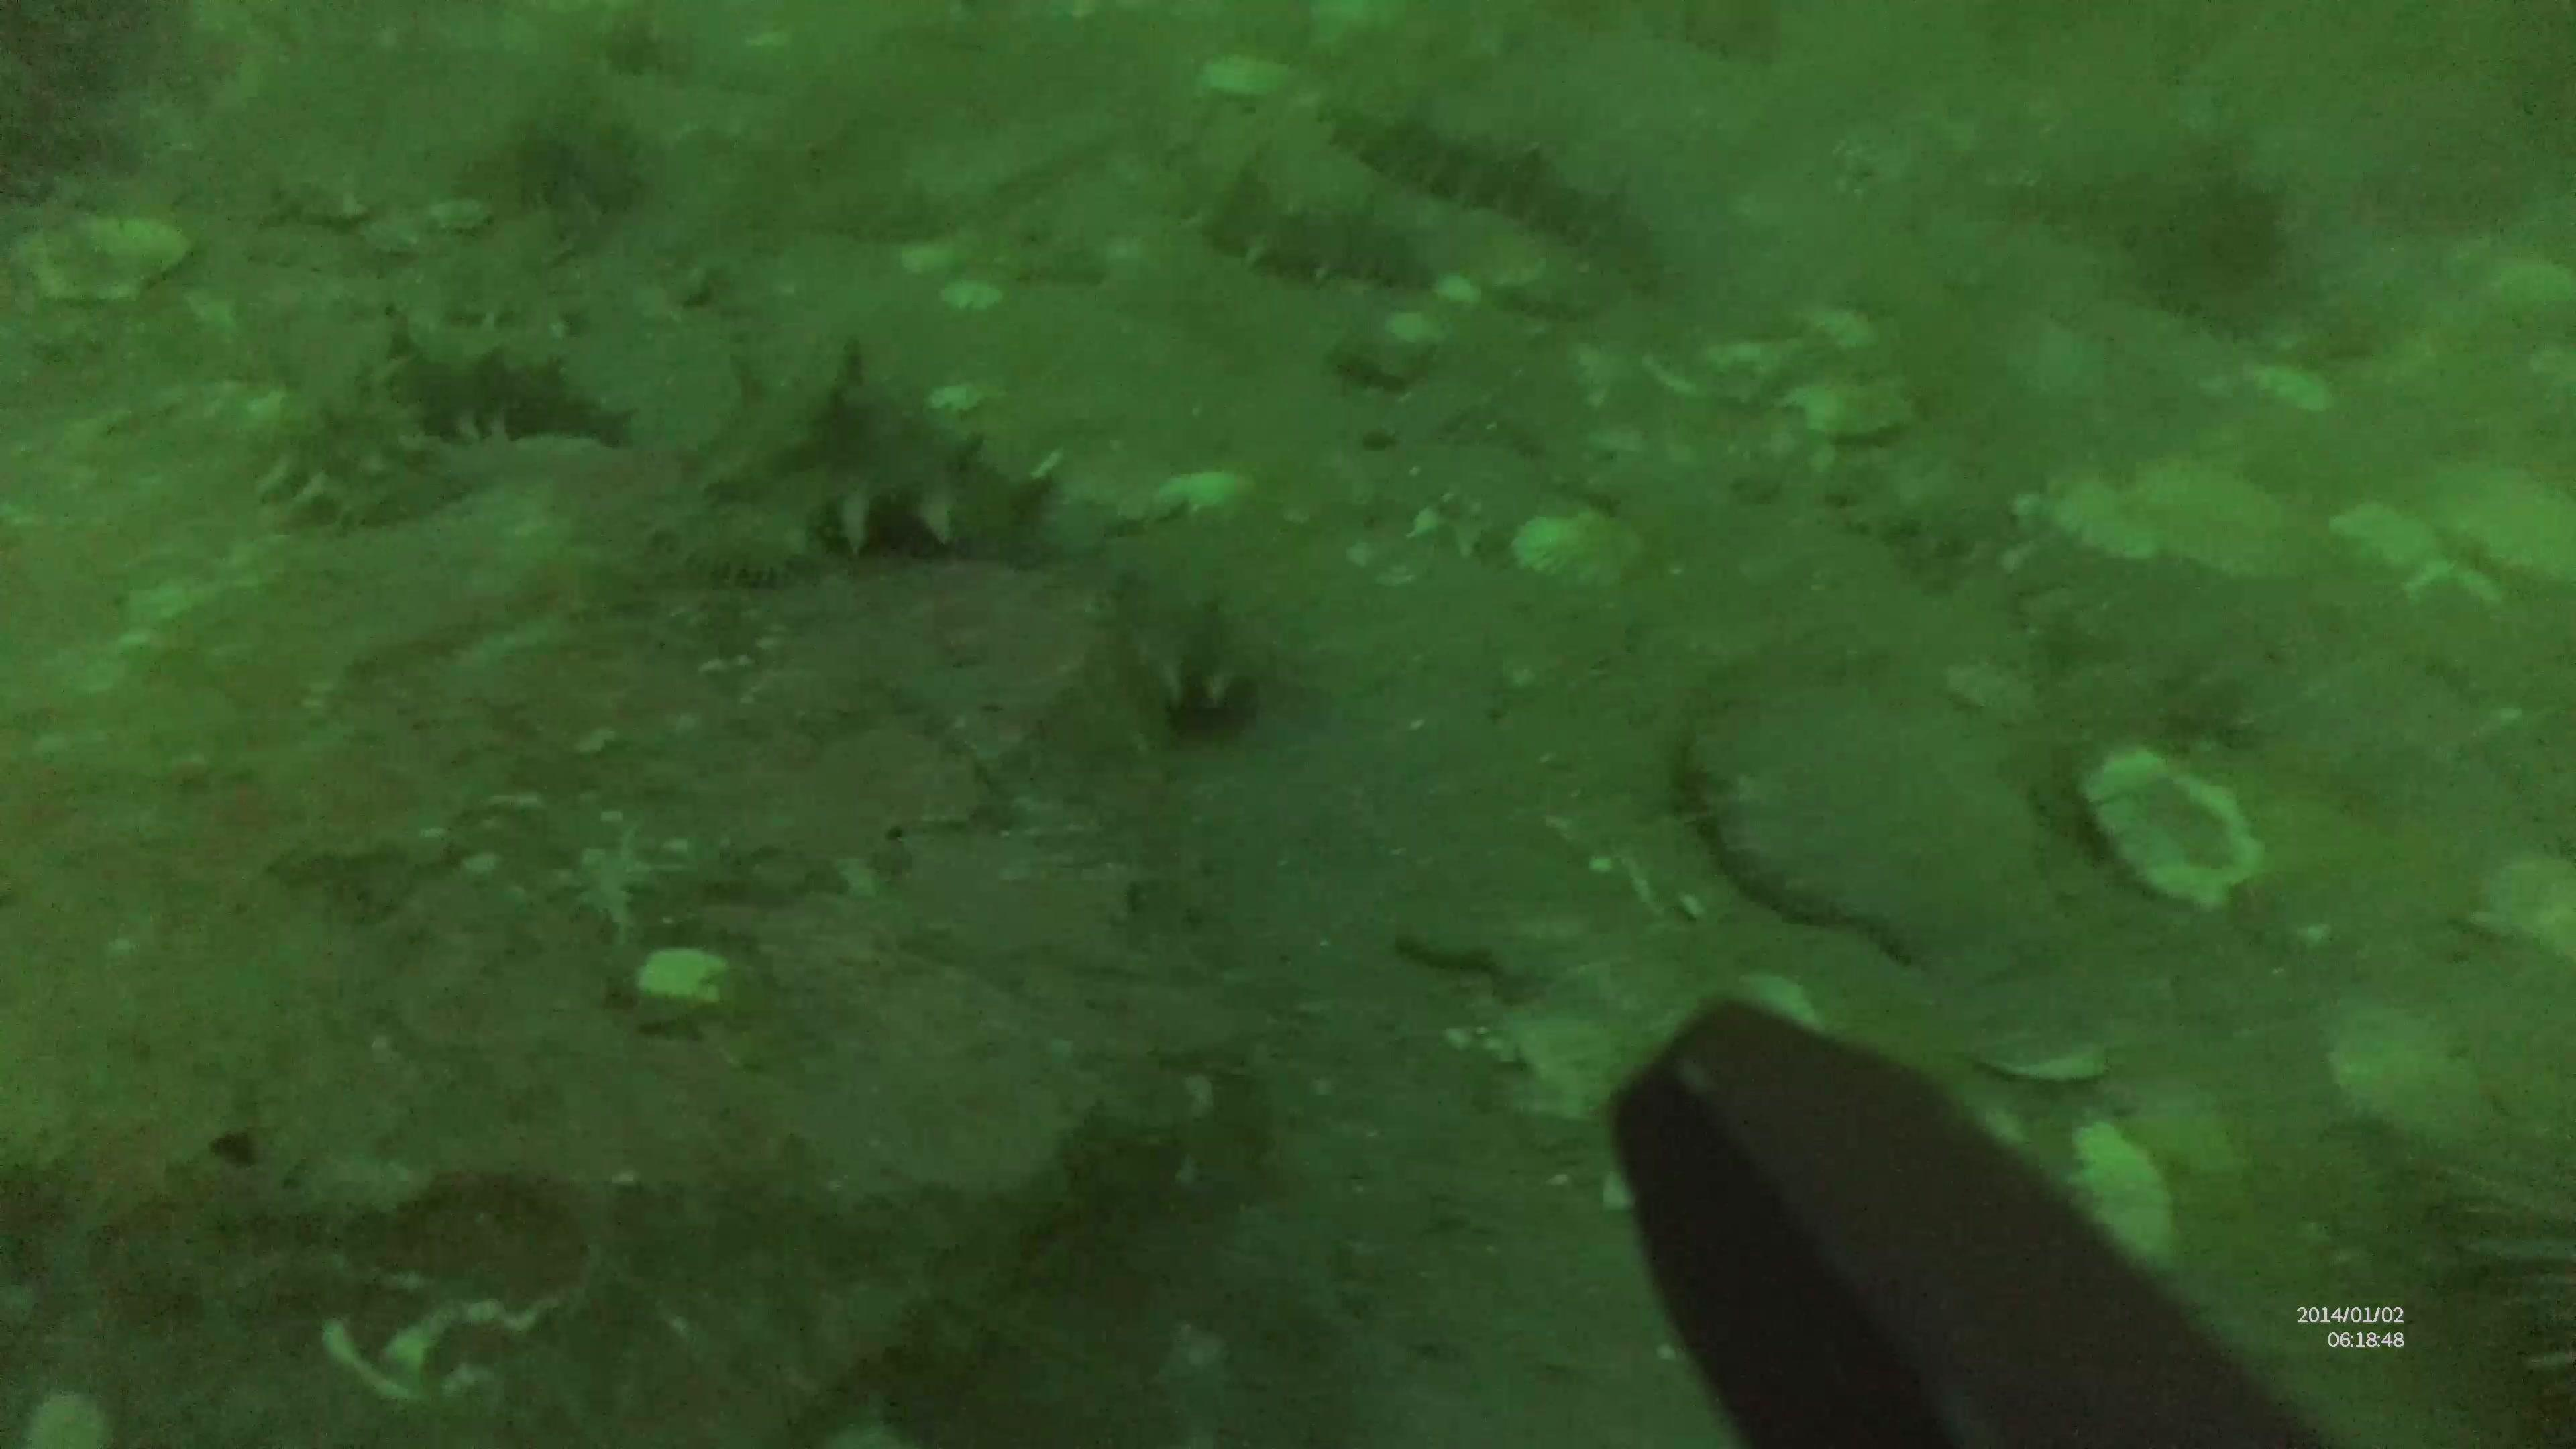holothurian: (656, 340, 1238, 718), (262, 308, 639, 525), (1330, 94, 1635, 249), (1184, 92, 1421, 281)
scallop: (1700, 699, 2058, 980)
